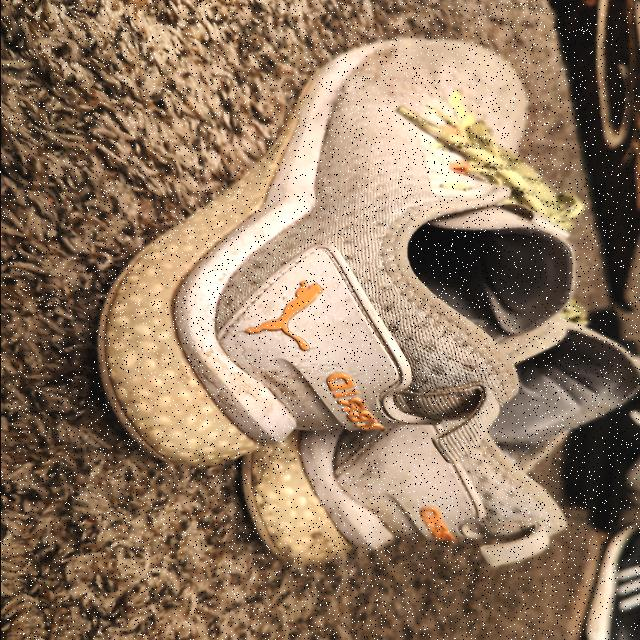white shoes: (96, 69, 562, 567)
